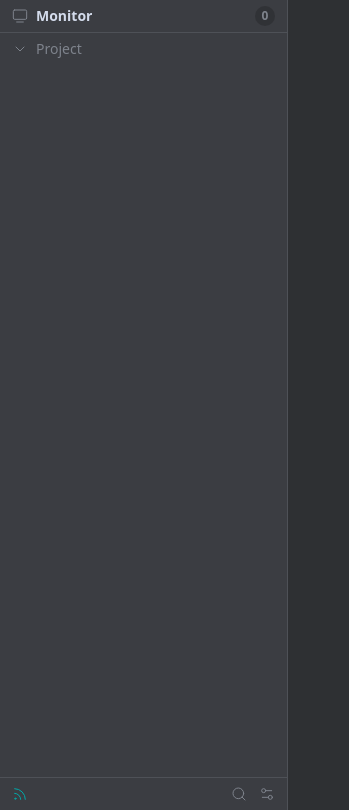
Test case: Sidebar project actions › surfaces forwarder lifecycle details for service rows
Click the button named "Network ports". click: (20, 794)
box: [12,786,28,802]
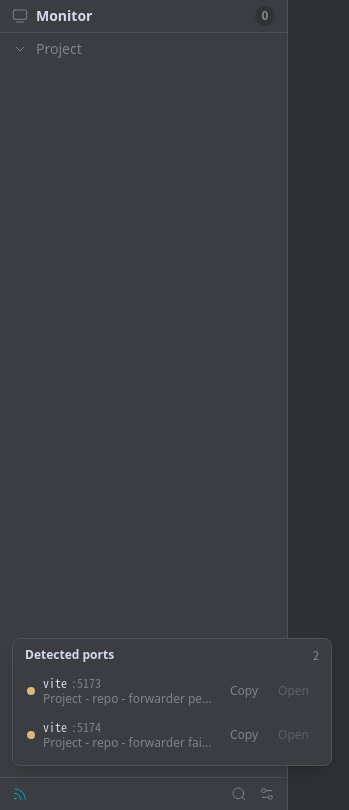
Check: the text "Project - repo - forwarder pending" is shown, box [43,691,214,707]
Check: the text "Project - repo - forwarder failed" is shown, box [43,735,214,751]
